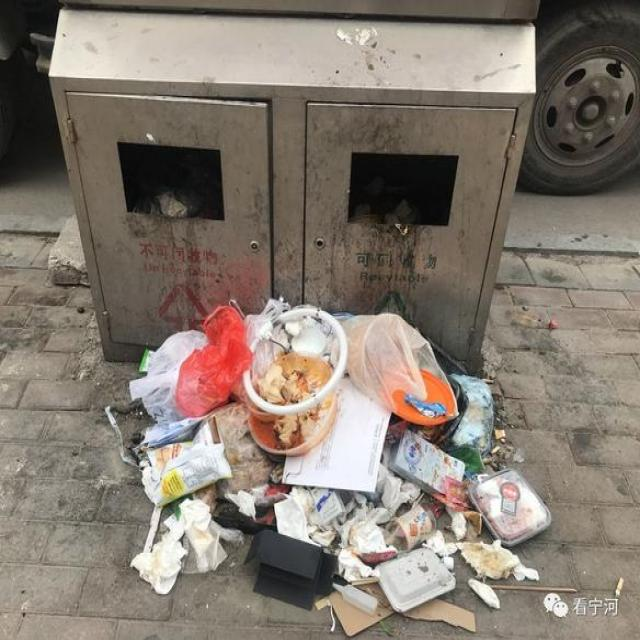garbage: (106, 294, 574, 635)
garbage_bin: (47, 3, 537, 362)
